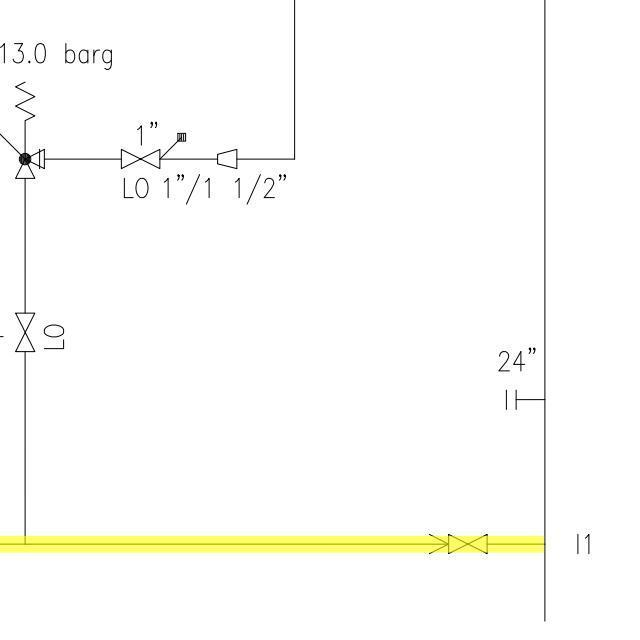GV: (441, 528, 496, 560), (11, 308, 40, 358), (118, 143, 164, 172)
RPV: (7, 78, 57, 192)
SP: (215, 146, 243, 175)
